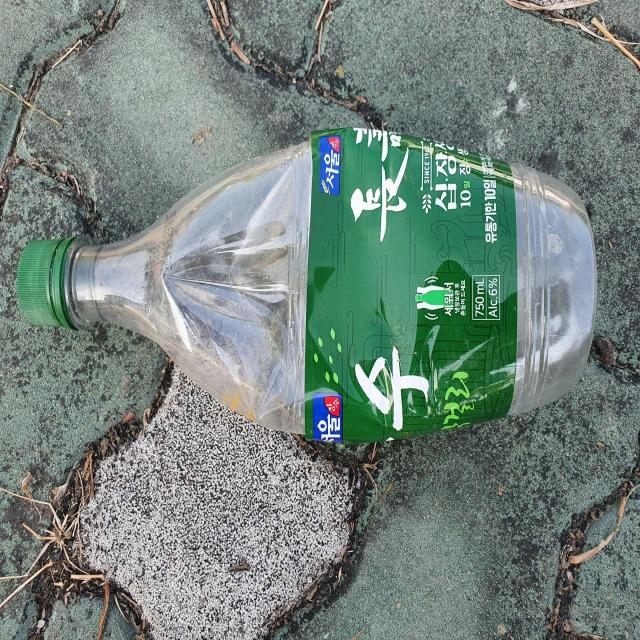plastic: (16, 127, 597, 443)
